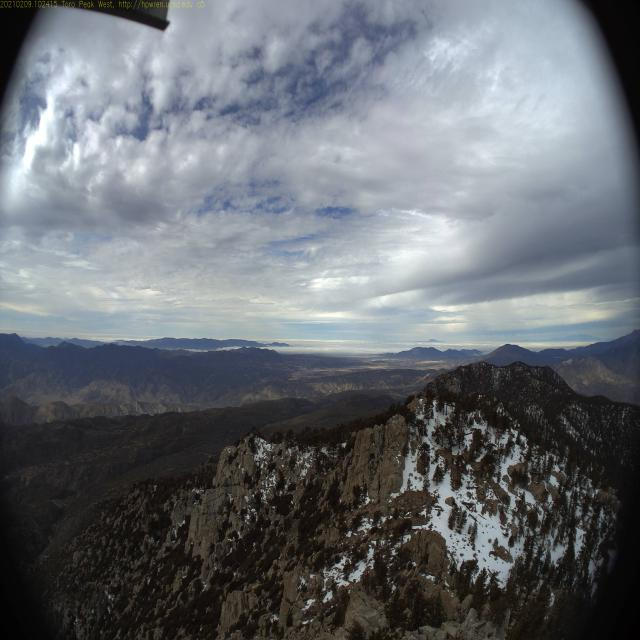smoke: (113, 338, 131, 348)
